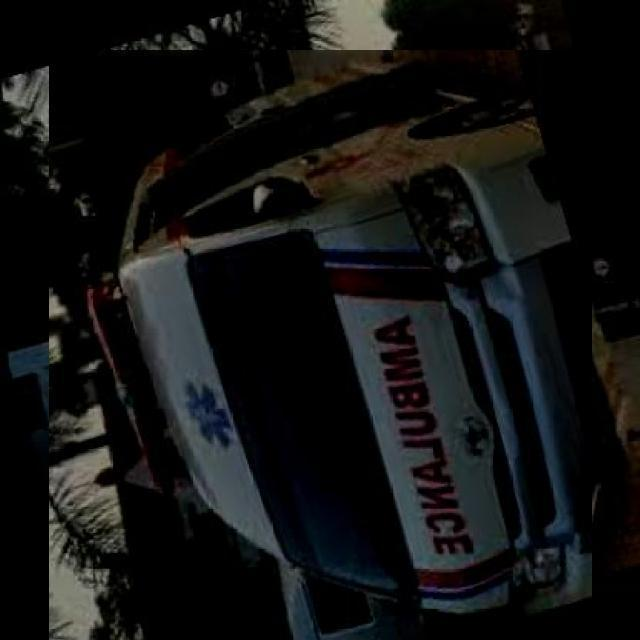emergency-vehicle: (25, 73, 616, 640)
